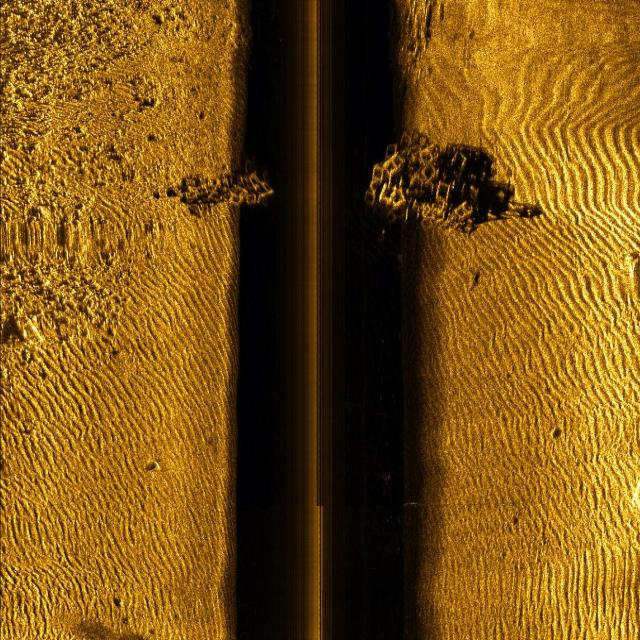artificial reef: (361, 127, 512, 248), (173, 160, 277, 223)
